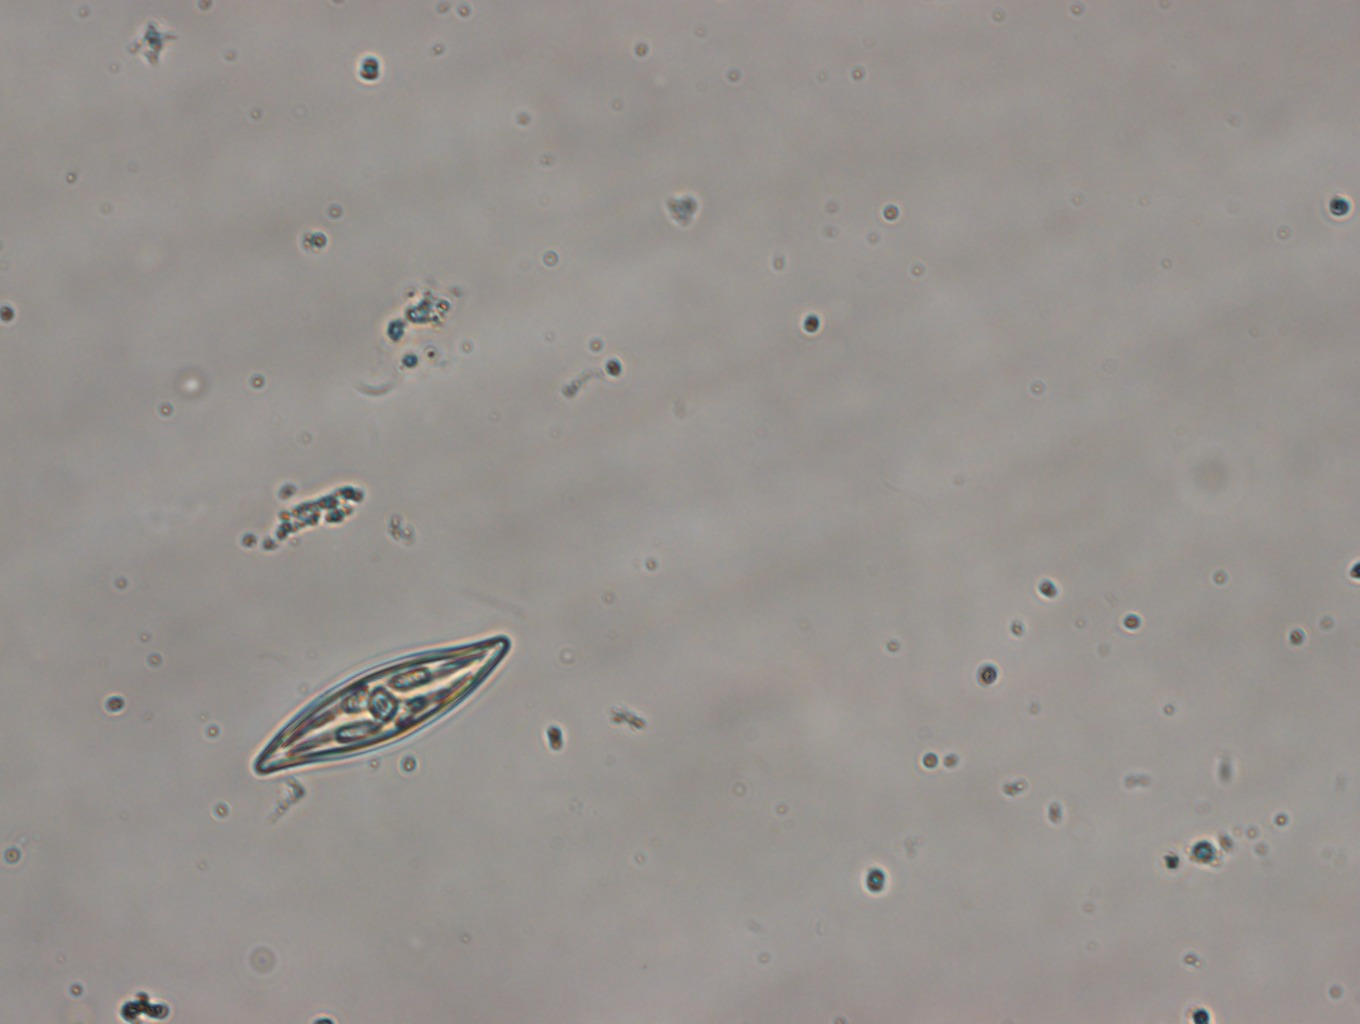pleurosigma pelagicum: (250, 630, 513, 781)
